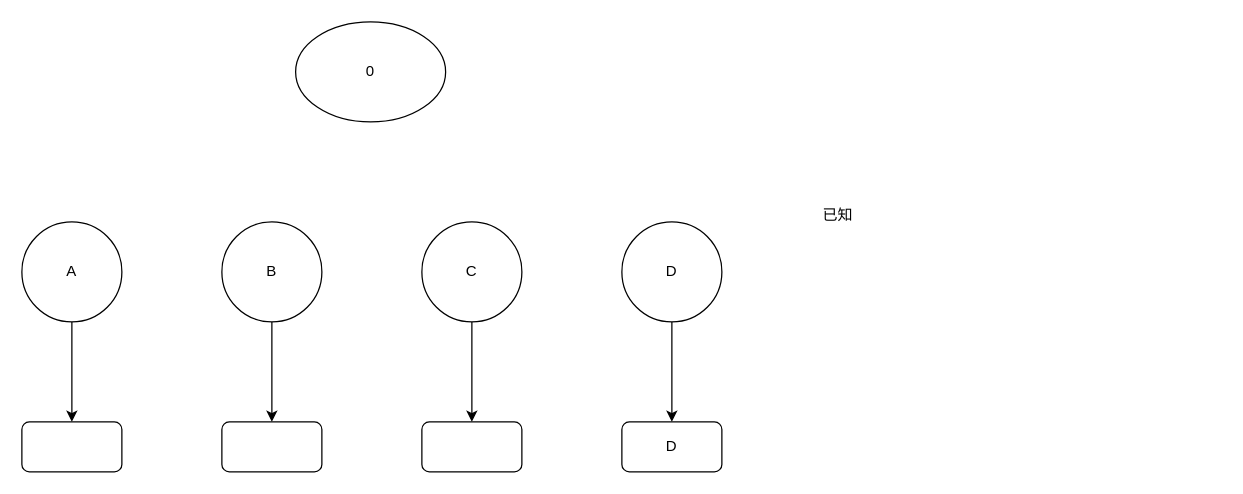
Some shapes in this 1243 by 494 pixel diagram are drawn without their labels. Each missing label, with the box of its shape:
A1: (21, 421, 122, 472)
B1: (221, 421, 322, 472)
C1: (421, 421, 522, 472)
